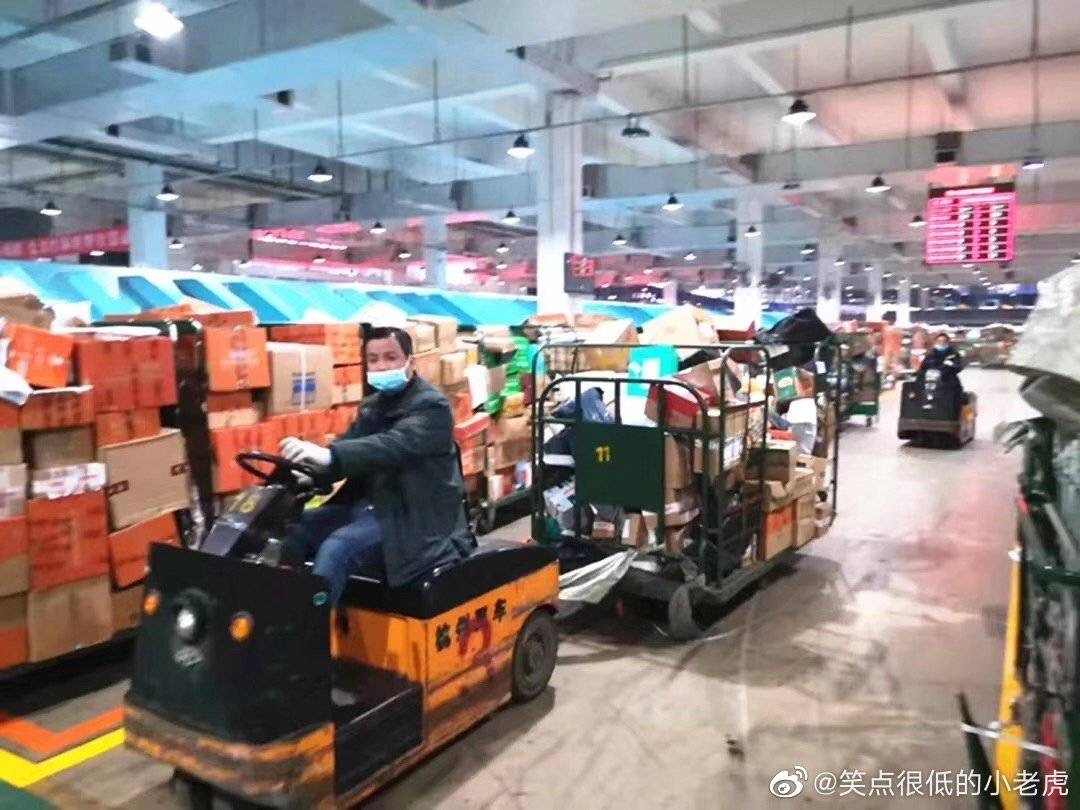rightmask: (361, 326, 420, 404)
